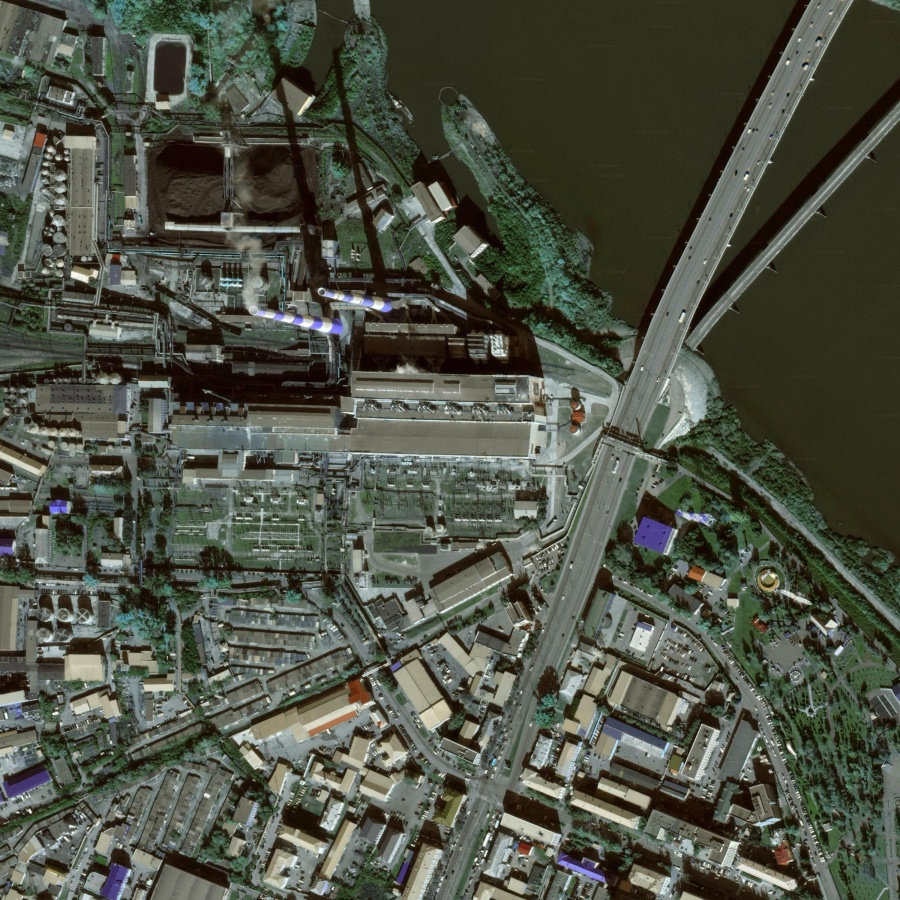PowerPlant: (127, 108, 531, 452)
